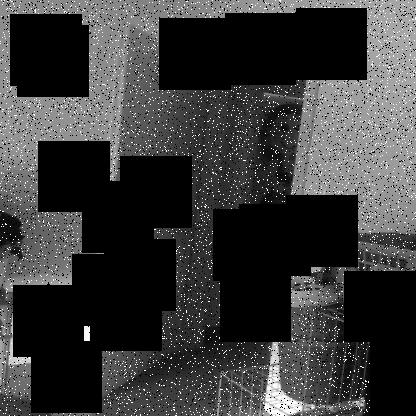Porte: (79, 19, 329, 416)
